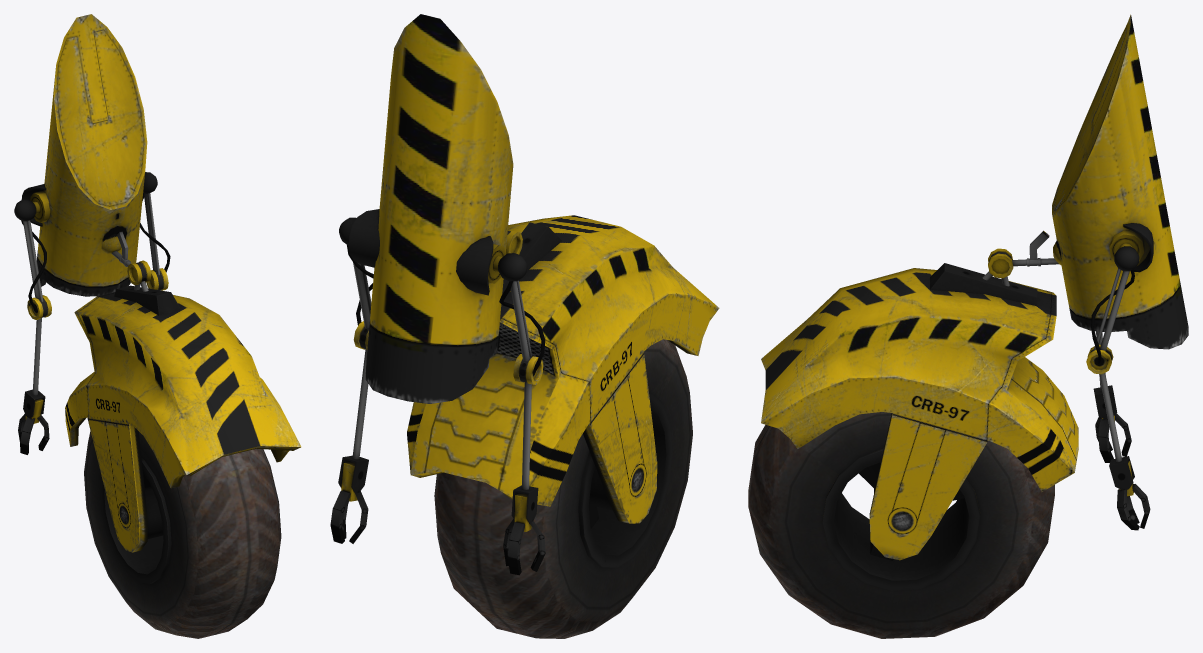
File: mini_rover_slumped.dae
The picture shows the model from 3 angles, left to right: view 1: azimuth 30°, elevation 25°; view 2: azimuth 150°, elevation 25°; view 3: azimuth 270°, elevation 25°; orthographic projection. The views are drawn at different scales.
Parts seen in each view (by area): view 1: base, wheel, eye_piece, arm002, Box001, Center_joint, arm001, L_Arm, L_Elbow; view 2: base, eye_piece, wheel, arm002, Box001, arm001, L_Arm, R_Arm, L_Elbow, R_Claw1, L_Claw1, R_Hand; view 3: base, wheel, eye_piece, Box001, arm001, Center_joint, R_Hand, R_Arm.
Boxes of the visible parts, box(x1,y1,x2,y2) form: base: box(65, 292, 301, 552); wheel: box(84, 431, 281, 638); eye_piece: box(21, 14, 147, 296); arm002: box(14, 199, 46, 310); Box001: box(114, 285, 181, 315); Center_joint: box(101, 231, 151, 285); arm001: box(140, 172, 170, 275); L_Arm: box(32, 318, 41, 395); L_Elbow: box(27, 295, 51, 319); base: box(407, 215, 719, 523); eye_piece: box(348, 14, 513, 403); wheel: box(434, 339, 692, 638); arm002: box(498, 253, 545, 372); Box001: box(502, 222, 561, 294); arm001: box(339, 217, 373, 329); L_Arm: box(521, 382, 531, 489); R_Arm: box(352, 349, 368, 459); L_Elbow: box(513, 354, 543, 384); R_Claw1: box(330, 490, 350, 543); L_Claw1: box(507, 522, 524, 575); R_Hand: box(338, 455, 368, 492); base: box(761, 268, 1078, 560); wheel: box(748, 412, 1054, 638); eye_piece: box(1052, 14, 1188, 349); Box001: box(930, 263, 1037, 306); arm001: box(1091, 246, 1139, 363); Center_joint: box(988, 230, 1061, 278); R_Hand: box(1109, 456, 1134, 490); R_Arm: box(1099, 373, 1122, 462).
Size of the model in its own units: 0.2324 by 0.5128 by 0.788.
1 material, 1 textured.
